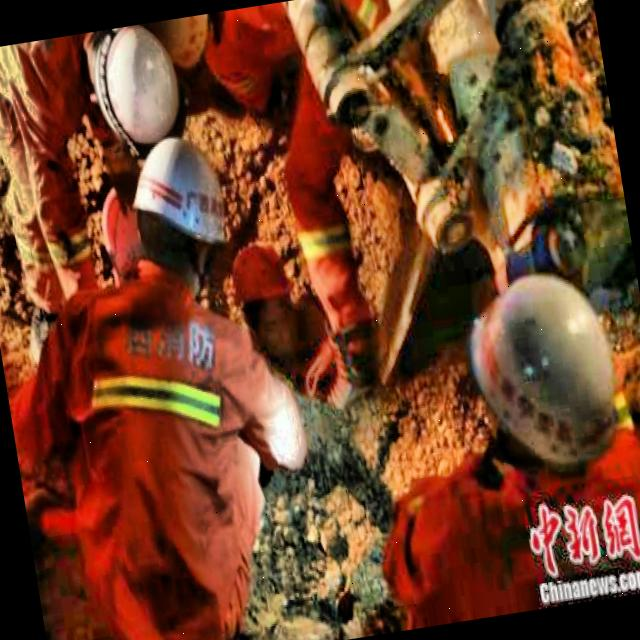helmet: (458, 249, 640, 496), (116, 128, 240, 310), (84, 23, 194, 161), (226, 235, 306, 362)
